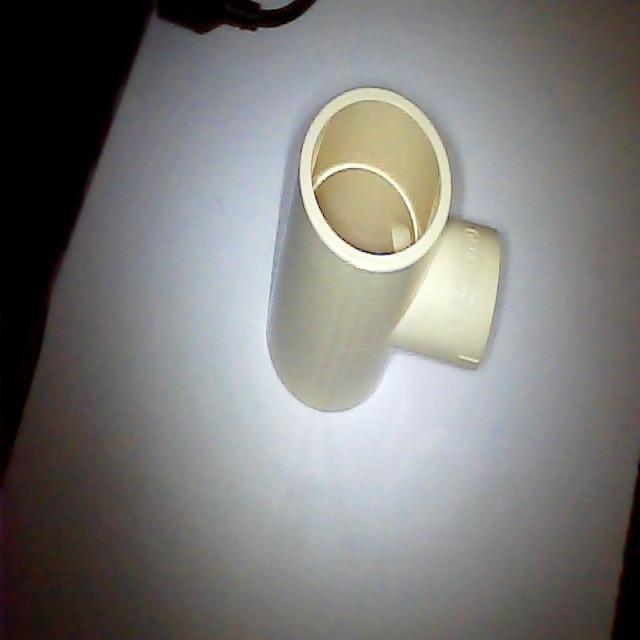T Joint: (265, 87, 507, 417)
